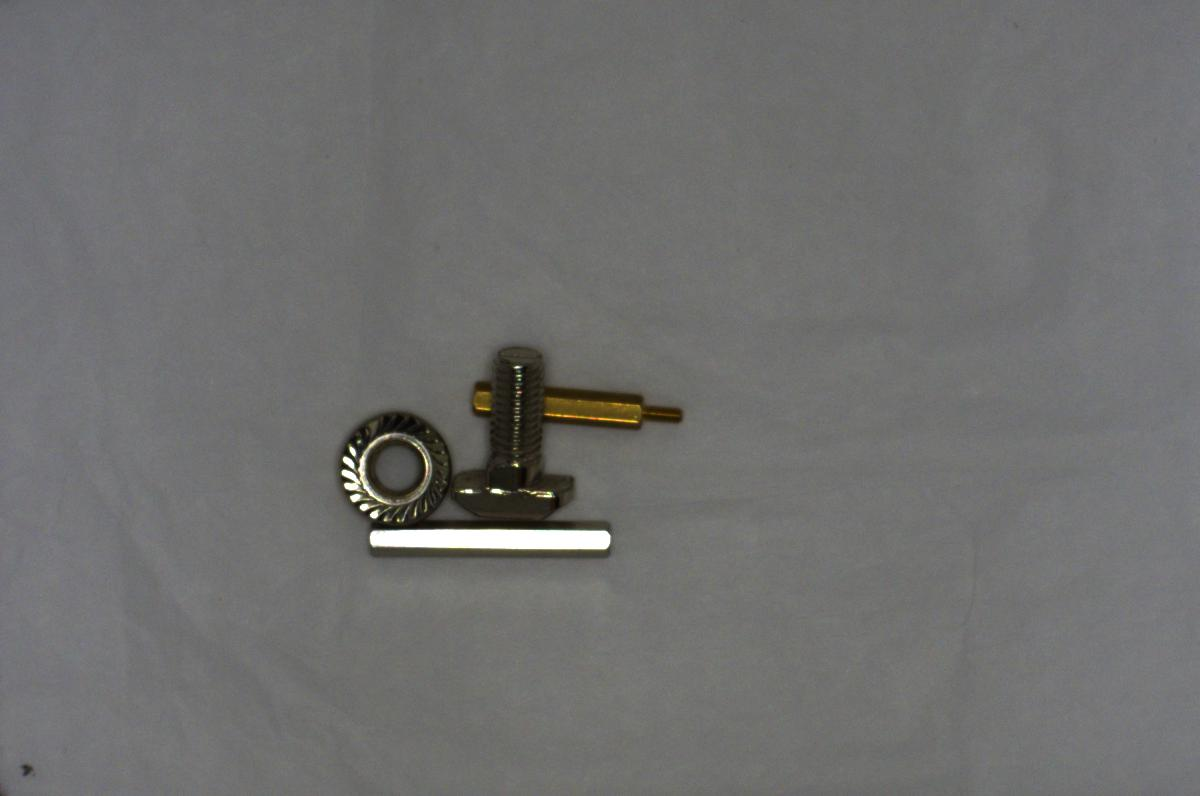Double hexagonal column: (354, 510, 631, 563)
Flange nut: (327, 401, 455, 527)
Hexagon pillar: (460, 369, 702, 435)
T-shaped screw: (447, 354, 592, 521)
